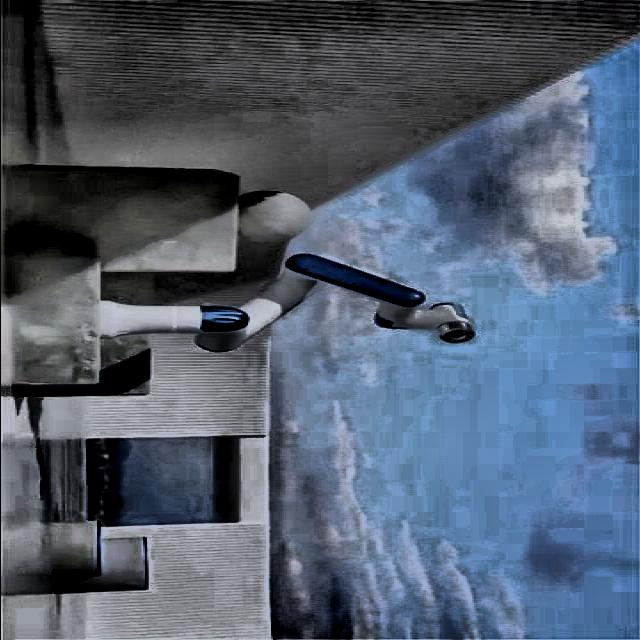robot: (100, 191, 478, 355)
